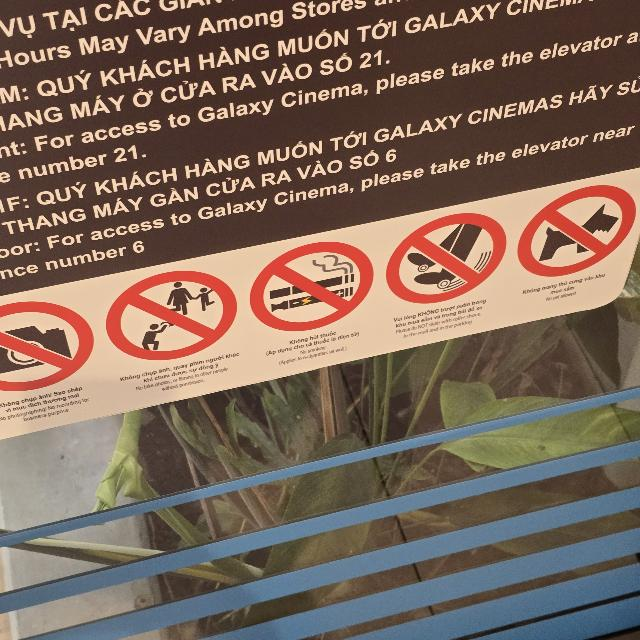cam hut thuoc: (250, 241, 372, 335)
